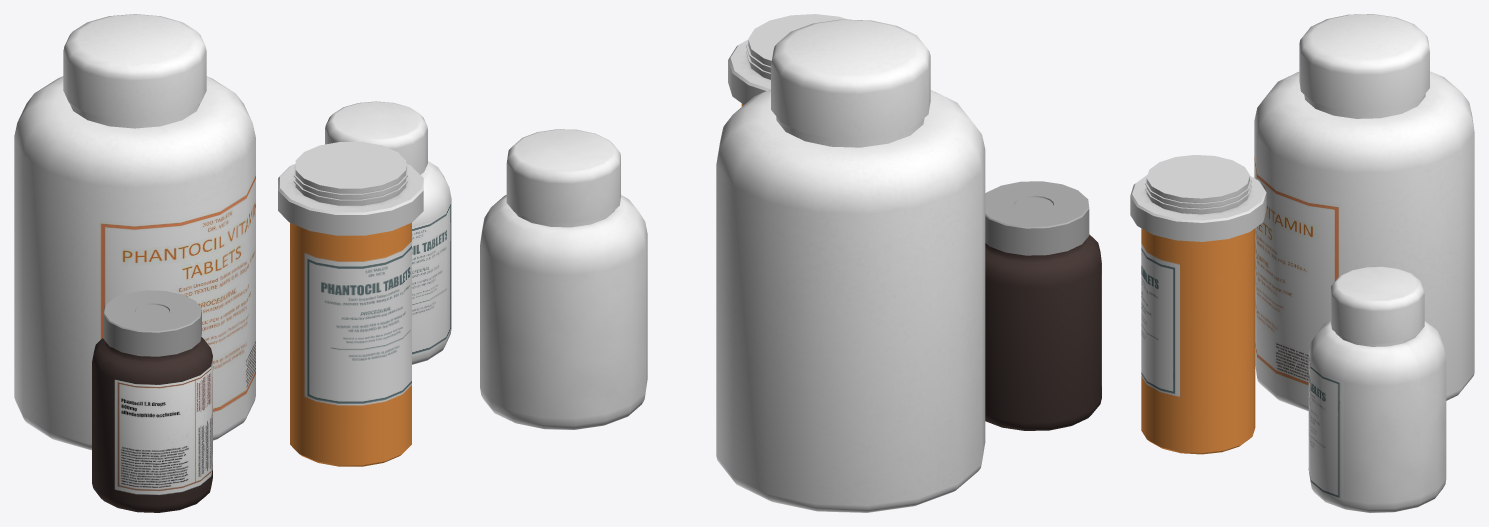
Rendered from Drugs.dae.
3 renders of one model, left to right at view 1: azimuth 30°, elevation 25°; view 2: azimuth 150°, elevation 25°; view 3: azimuth 270°, elevation 25°, orthographic. The views are drawn at different scales.
Visible parts, largest first — view 1: Pill_Bottle-02, Phantocil, Small_Drug_Bottle, Pill_Bottle-01; view 2: Pill_Bottle-02, Pill_Bottle-01, Small_Drug_Bottle, Phantocil; view 3: Pill_Bottle-02, Phantocil, Pill_Bottle-01.
Boxes of the visible parts, x1,y1,x2,y2 form: Pill_Bottle-02: (14, 14, 255, 450); Phantocil: (278, 142, 423, 466); Small_Drug_Bottle: (92, 290, 212, 512); Pill_Bottle-01: (325, 101, 451, 364); Pill_Bottle-02: (716, 19, 985, 512); Pill_Bottle-01: (480, 129, 647, 429); Small_Drug_Bottle: (985, 181, 1101, 430); Phantocil: (728, 14, 847, 106); Pill_Bottle-02: (1254, 14, 1474, 411); Phantocil: (1130, 155, 1266, 454); Pill_Bottle-01: (1308, 266, 1446, 512).
Bounding box in the file's own units: 1.62 × 1.19 × 1.29.
Materials: 4 (4 with a texture image).
